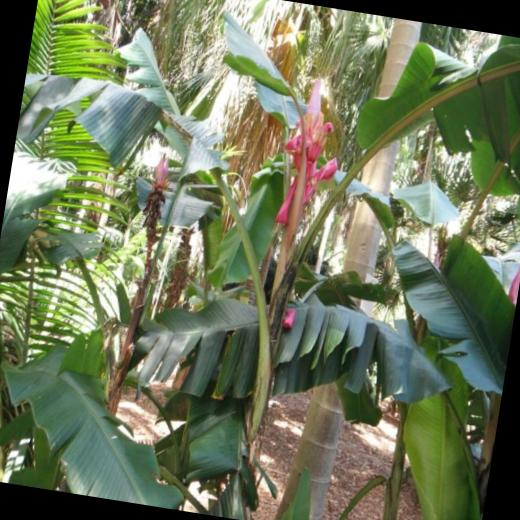Banana: (156, 177, 160, 186)
